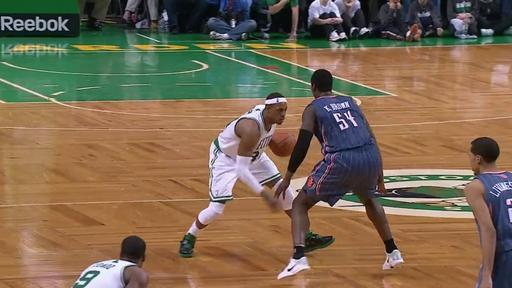ball: (270, 132, 294, 156)
human: (274, 68, 404, 280), (178, 92, 335, 257), (464, 136, 512, 288), (70, 235, 148, 288)
